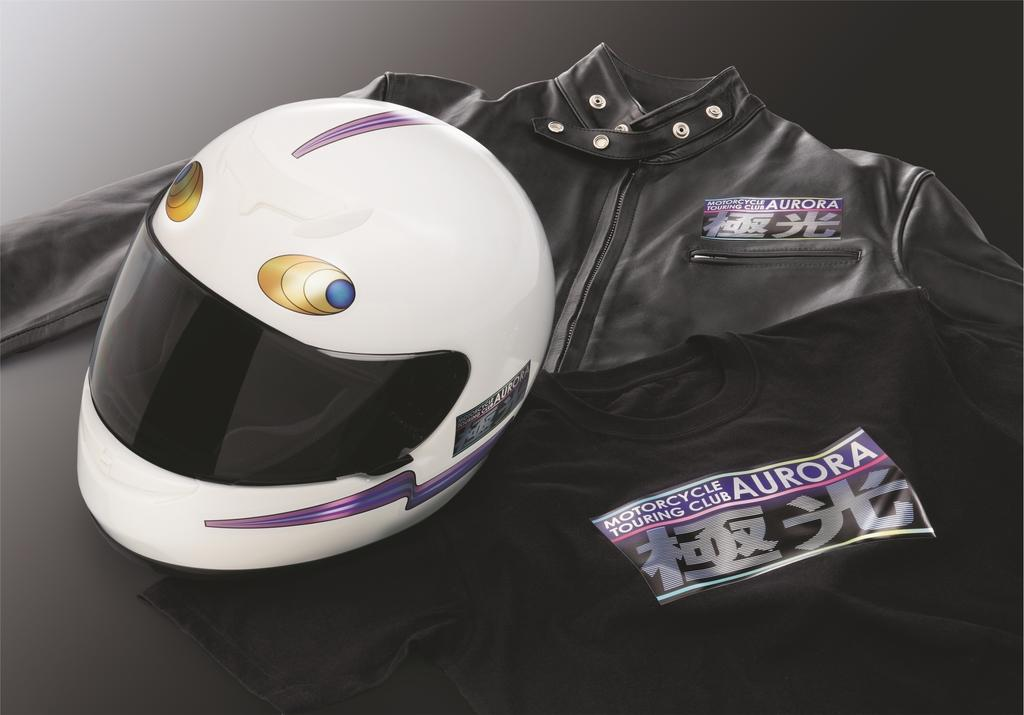helmet: (76, 97, 556, 576)
